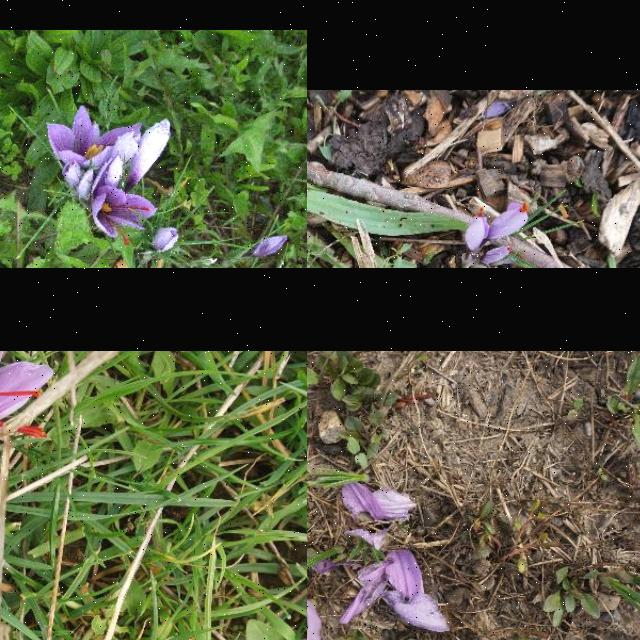flower: (0, 351, 53, 448), (486, 200, 530, 240), (464, 206, 490, 252), (256, 236, 288, 258), (153, 229, 179, 253)
overlap: (46, 107, 170, 247)
